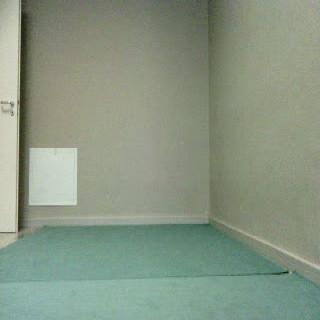background: (1, 1, 320, 320)
